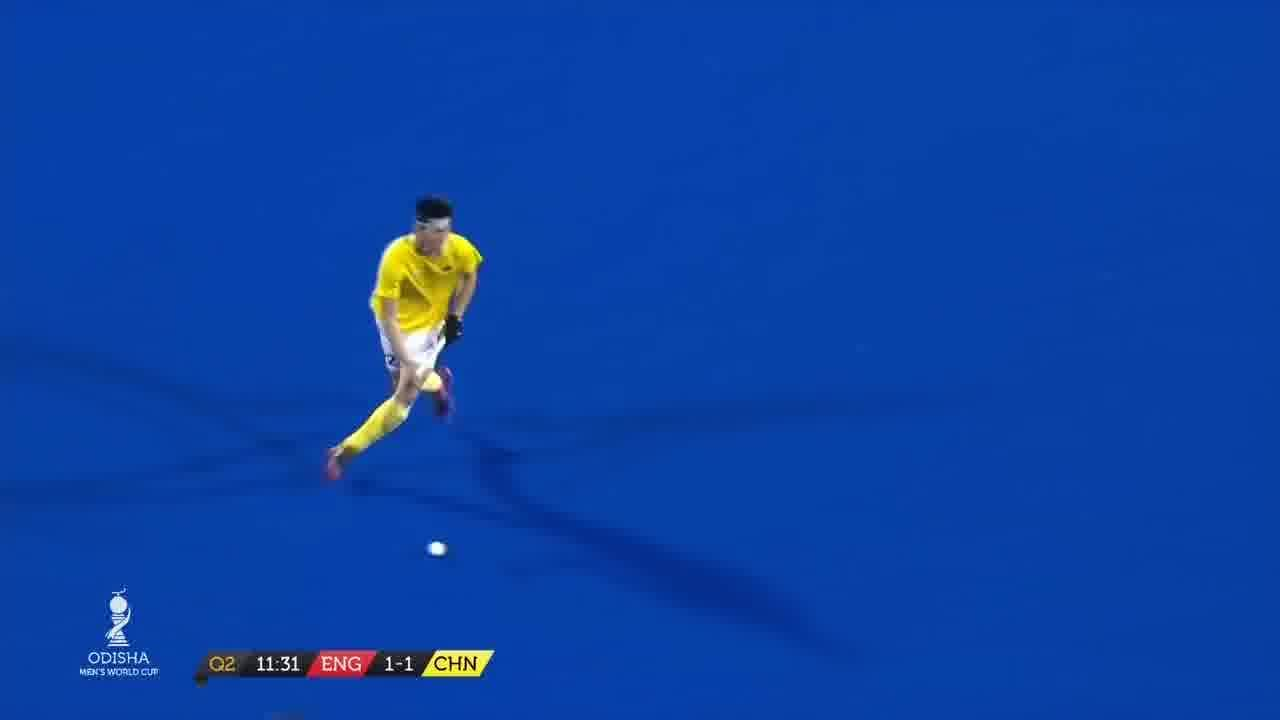ball: (422, 534, 456, 566)
